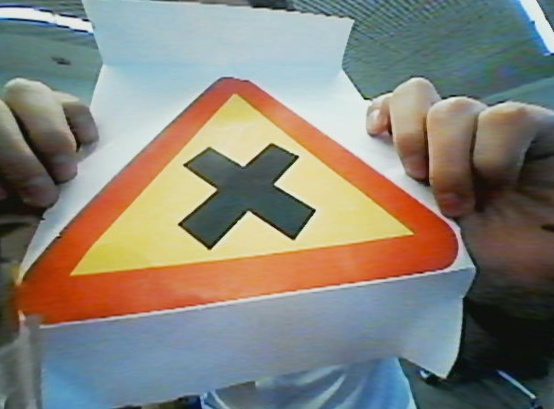junction: (18, 62, 462, 332)
